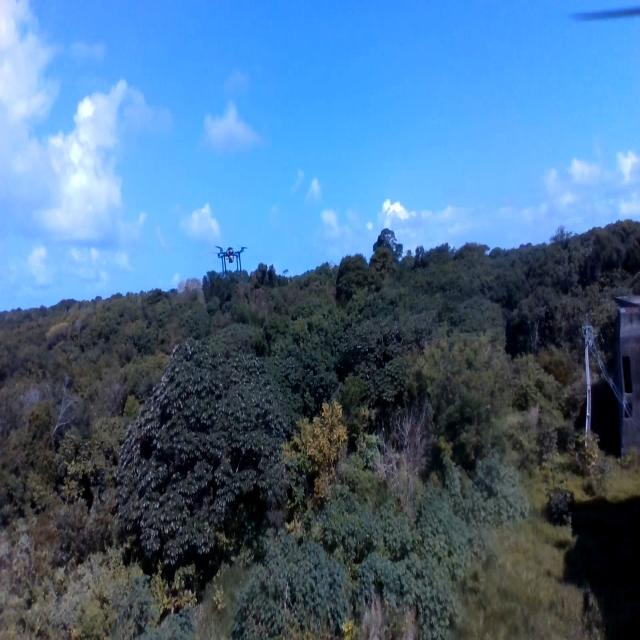-uav-: (213, 239, 255, 308)
